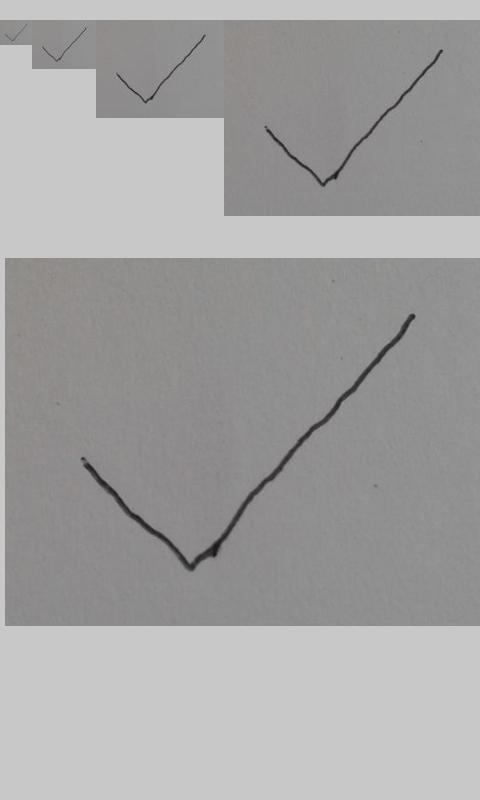check_box: (79, 311, 418, 573), (266, 49, 443, 187), (116, 34, 206, 104), (42, 28, 87, 62), (5, 24, 27, 42)
